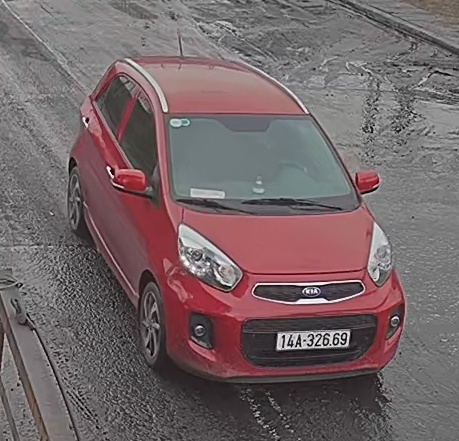vehicle plate: (271, 326, 357, 350)
